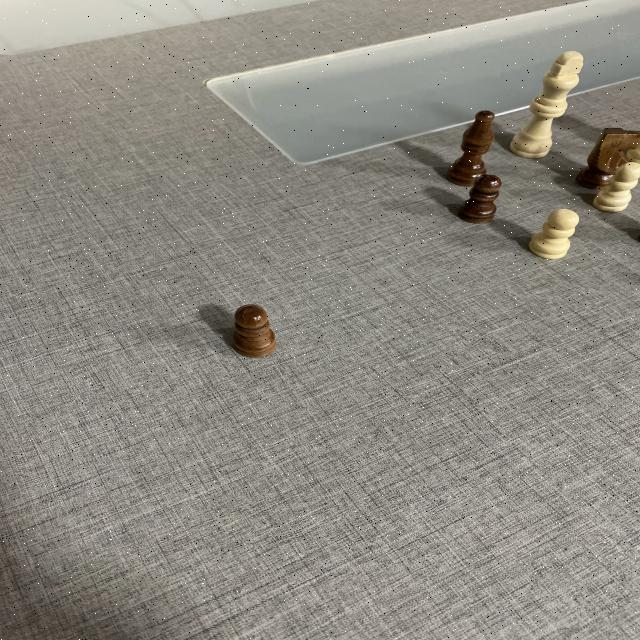Black-Bishop: (445, 108, 497, 186)
Black-Knight: (573, 126, 640, 190)
Black-Pawn: (231, 302, 279, 358), (460, 173, 502, 225)
White-King: (508, 48, 588, 158)
White-Pawn: (529, 208, 582, 261), (590, 160, 640, 212)
